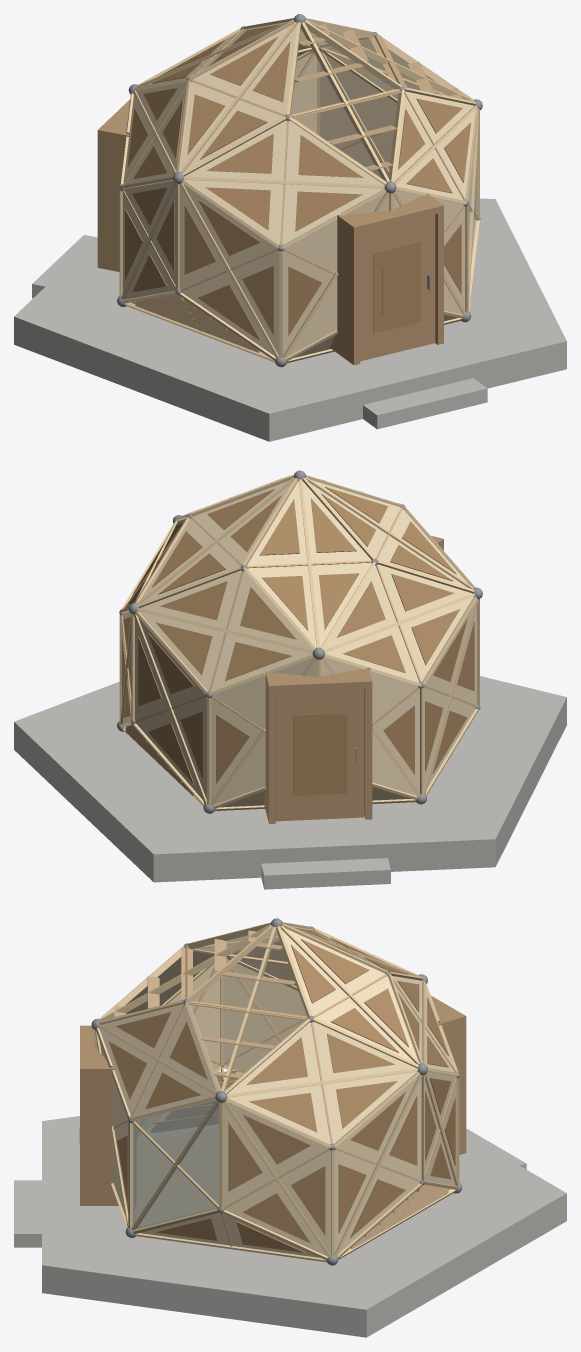
Rendered from dormi_aureo_a.glb.
3 views of the same model, one above another, from view 1: azimuth 30°, elevation 25°; view 2: azimuth 150°, elevation 25°; view 3: azimuth 270°, elevation 25° (orthographic).
Parts seen in each view (by area): view 1: base_podio, cerramiento_panel, cerramiento_incrustacion, estructura_madera_icosaedro, puertas_puerta, puerta_hoja_1, detalles_persiana, estructura_madera_dodecaedro, detalles_acero; view 2: base_podio, cerramiento_panel, cerramiento_incrustacion, estructura_madera_icosaedro, puerta_hoja_2, puertas_puerta, estructura_madera_dodecaedro, detalles_acero, detalles_persiana; view 3: base_podio, cerramiento_panel, cerramiento_incrustacion, estructura_madera_icosaedro, ventanas_vidrio, puertas_puerta, base_piso, detalles_persiana, estructura_madera_dodecaedro, detalles_acero.
Boxes of the visible parts, left/top/right/bottom form: base_podio: left=14, top=198, right=566, bottom=441; cerramiento_panel: left=123, top=22, right=475, bottom=357; cerramiento_incrustacion: left=125, top=24, right=470, bottom=340; estructura_madera_icosaedro: left=119, top=18, right=479, bottom=363; puertas_puerta: left=97, top=99, right=443, bottom=365; puerta_hoja_1: left=360, top=214, right=435, bottom=361; detalles_persiana: left=135, top=24, right=462, bottom=352; estructura_madera_dodecaedro: left=123, top=29, right=478, bottom=331; detalles_acero: left=117, top=14, right=482, bottom=367; base_podio: left=14, top=676, right=566, bottom=889; cerramiento_panel: left=122, top=480, right=476, bottom=807; cerramiento_incrustacion: left=122, top=487, right=474, bottom=784; estructura_madera_icosaedro: left=119, top=475, right=479, bottom=810; puerta_hoja_2: left=276, top=688, right=363, bottom=821; puertas_puerta: left=264, top=536, right=443, bottom=823; estructura_madera_dodecaedro: left=121, top=507, right=476, bottom=730; detalles_acero: left=117, top=470, right=482, bottom=813; detalles_persiana: left=125, top=475, right=468, bottom=795; base_podio: left=14, top=1116, right=566, bottom=1337; cerramiento_panel: left=97, top=926, right=456, bottom=1257; cerramiento_incrustacion: left=108, top=927, right=455, bottom=1252; estructura_madera_icosaedro: left=94, top=922, right=459, bottom=1262; ventanas_vidrio: left=133, top=1100, right=218, bottom=1229; puertas_puerta: left=80, top=996, right=466, bottom=1205; base_piso: left=135, top=1128, right=449, bottom=1226; detalles_persiana: left=114, top=930, right=448, bottom=1249; estructura_madera_dodecaedro: left=113, top=929, right=457, bottom=1246; detalles_acero: left=91, top=918, right=462, bottom=1265.
Bounding box in the file's own units: 7.85 × 4.75 × 7.87.
